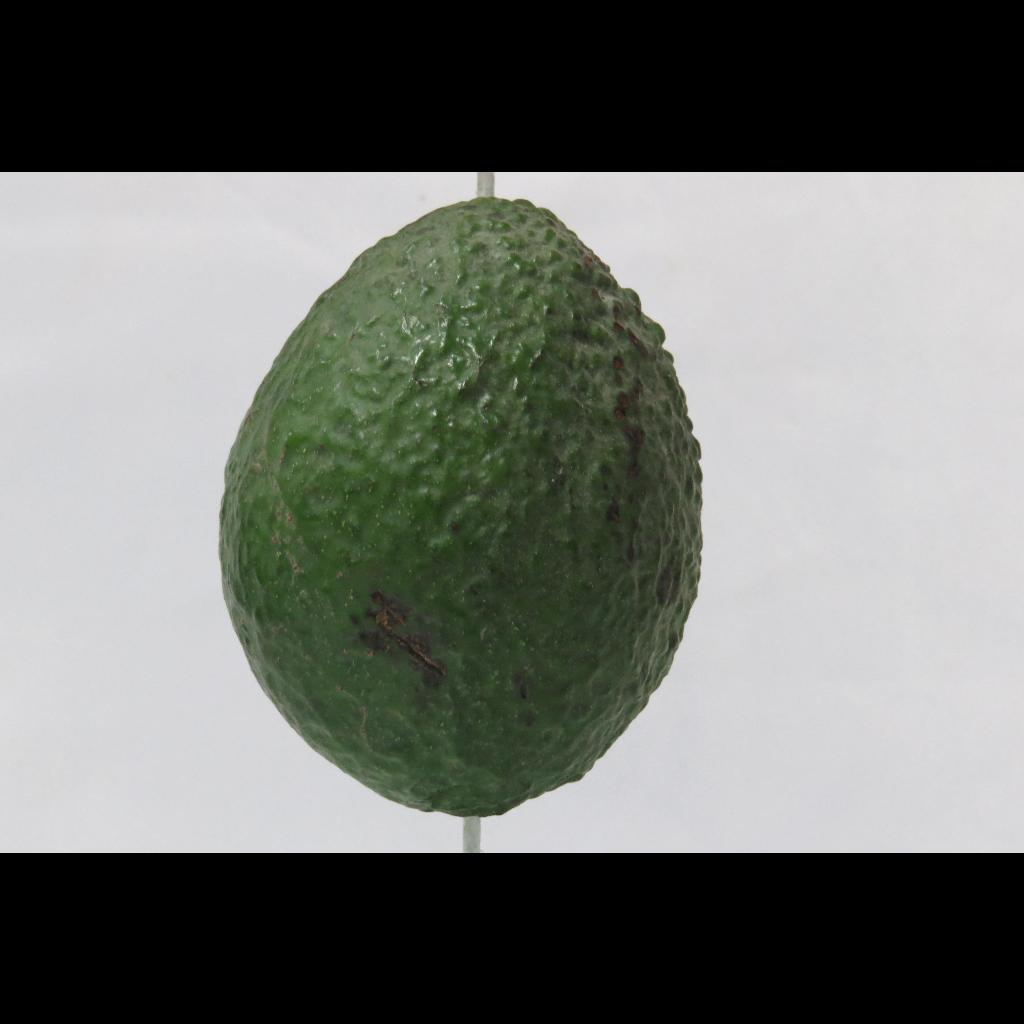Healthy: (161, 176, 721, 830)
